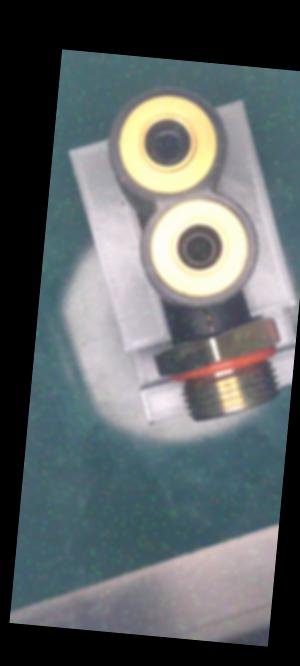craze: (204, 310, 216, 336)
